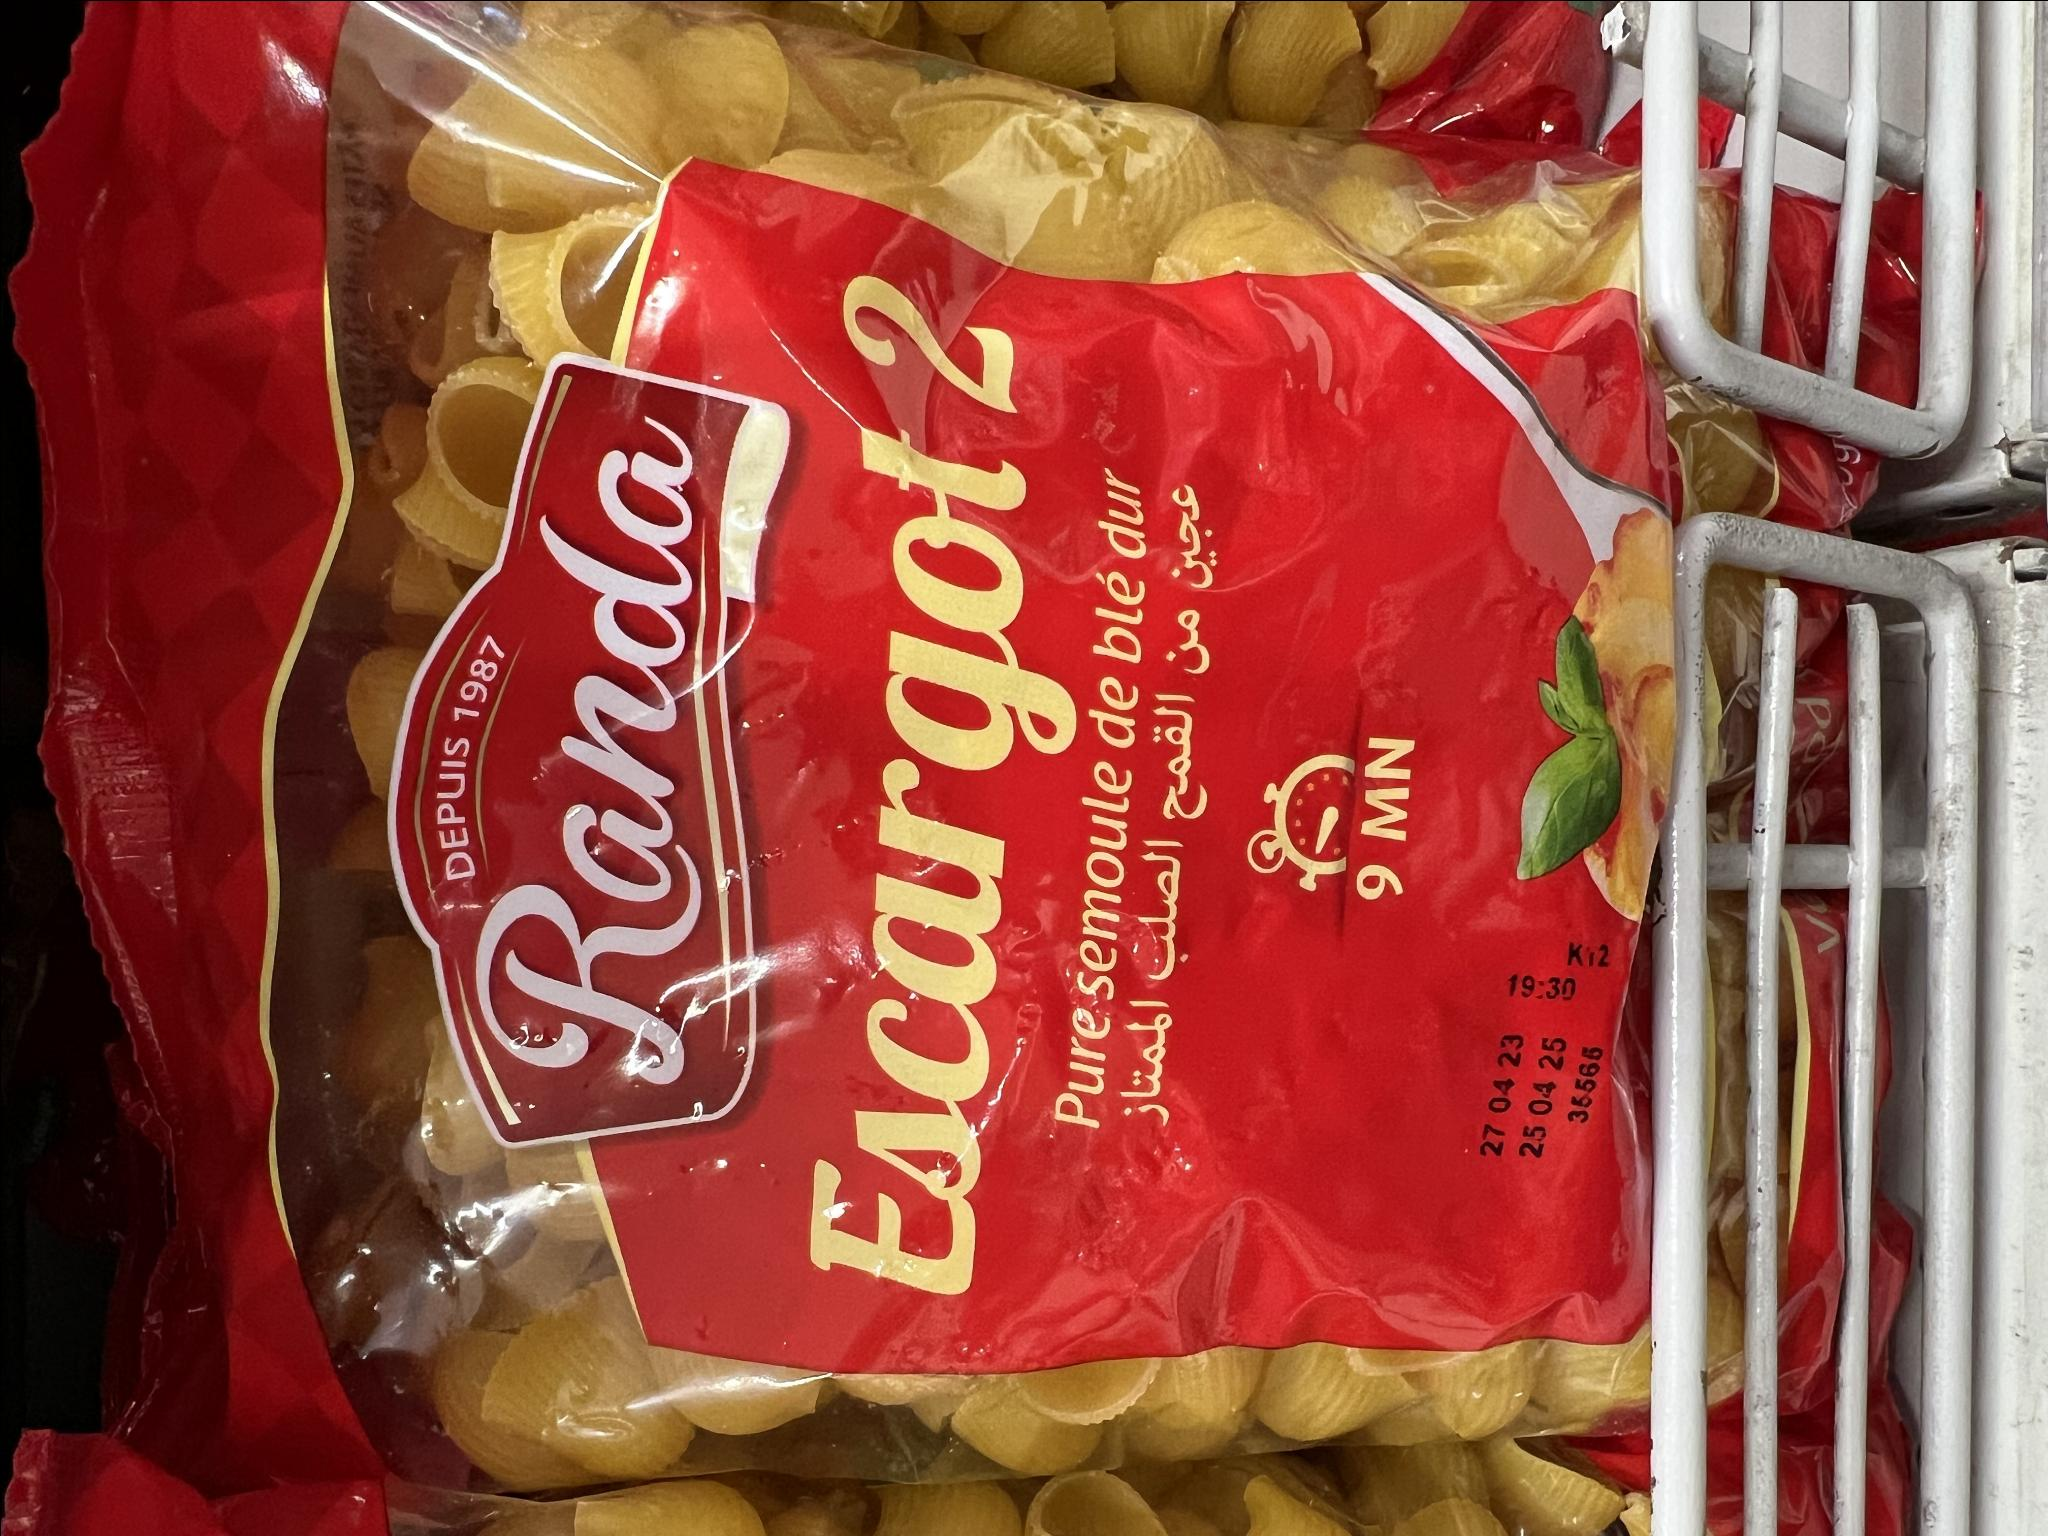Escargot: (3, 0, 1937, 1447)
